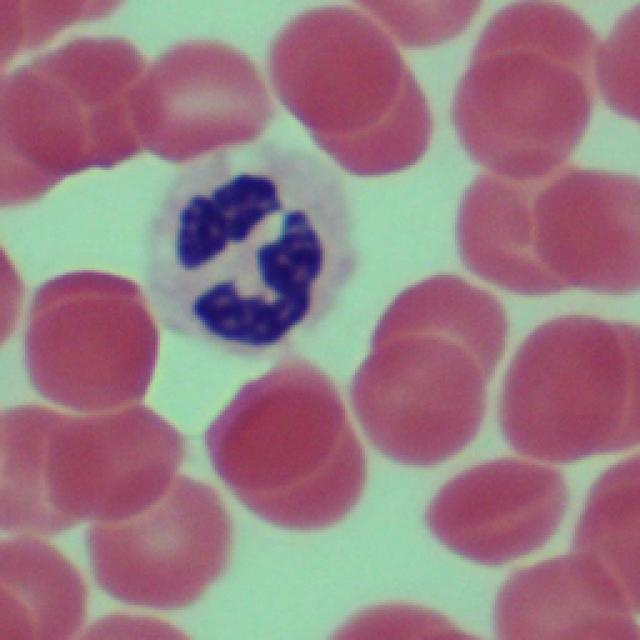RBC: (349, 270, 499, 472), (206, 357, 358, 534), (272, 0, 430, 170), (452, 0, 596, 183), (118, 2, 269, 169), (499, 294, 639, 469), (26, 256, 161, 425), (84, 454, 220, 610), (19, 40, 168, 181), (422, 457, 560, 569), (46, 409, 187, 516), (0, 62, 90, 205), (493, 556, 640, 639), (0, 393, 89, 527), (577, 453, 640, 600), (0, 532, 80, 638), (357, 0, 485, 50), (590, 1, 640, 124)
WBC: (184, 171, 332, 344)
